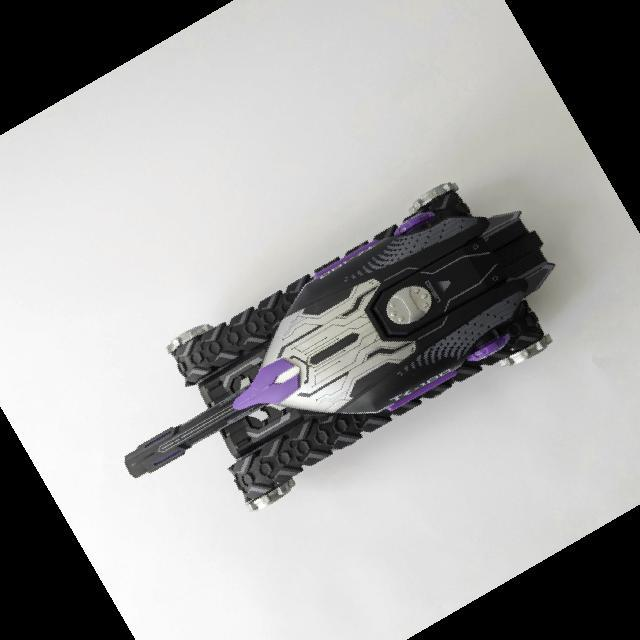barrel: (125, 377, 273, 478)
